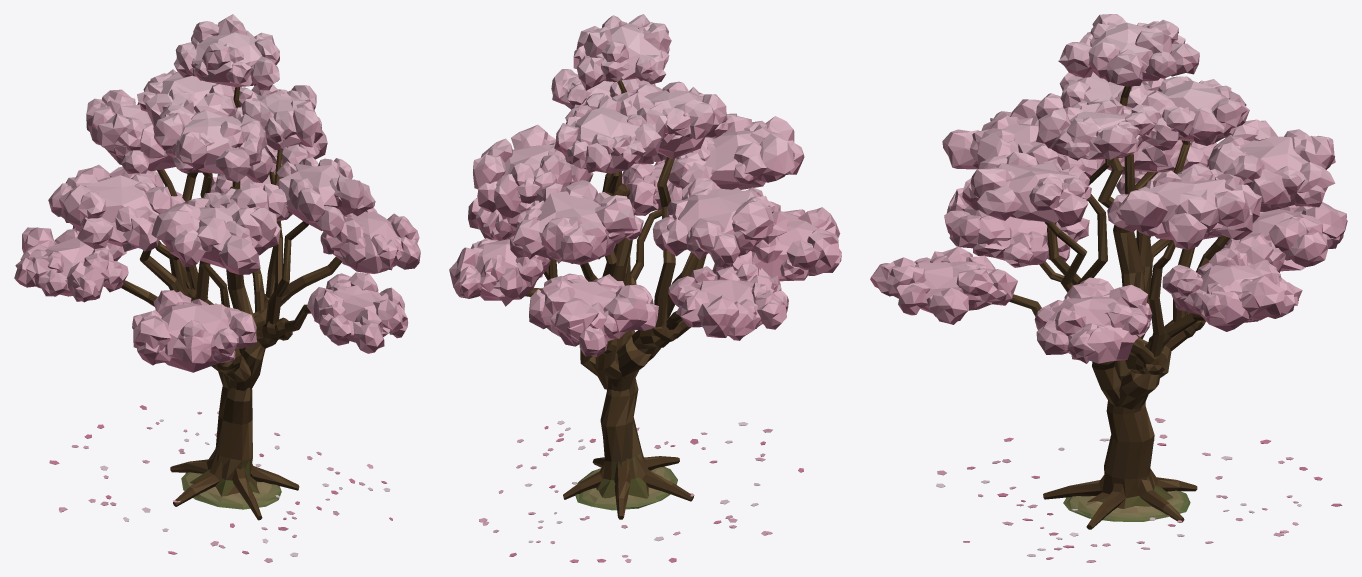
The model's file is sakura-tree.glb.
3 renders of one model, left to right at view 1: azimuth 30°, elevation 25°; view 2: azimuth 150°, elevation 25°; view 3: azimuth 270°, elevation 25°, orthographic. The views are drawn at different scales.
Parts seen in each view (by area): view 1: sakura_tree; view 2: sakura_tree; view 3: sakura_tree.
Boxes of the visible parts, box(x1,y1,x2,y2) form: sakura_tree: box(14, 14, 420, 562); sakura_tree: box(449, 14, 841, 562); sakura_tree: box(870, 14, 1347, 562).
Bounding box in the file's own units: 4.3 × 5.36 × 4.82.
